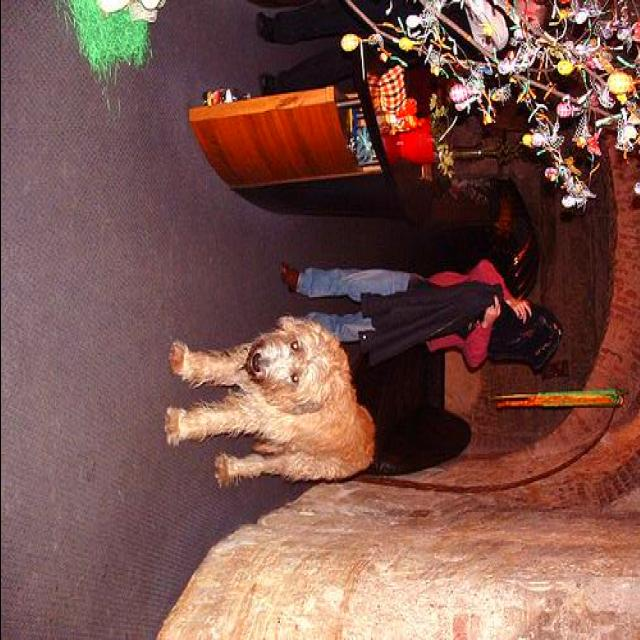irish_wolfhound: (162, 318, 374, 488)
